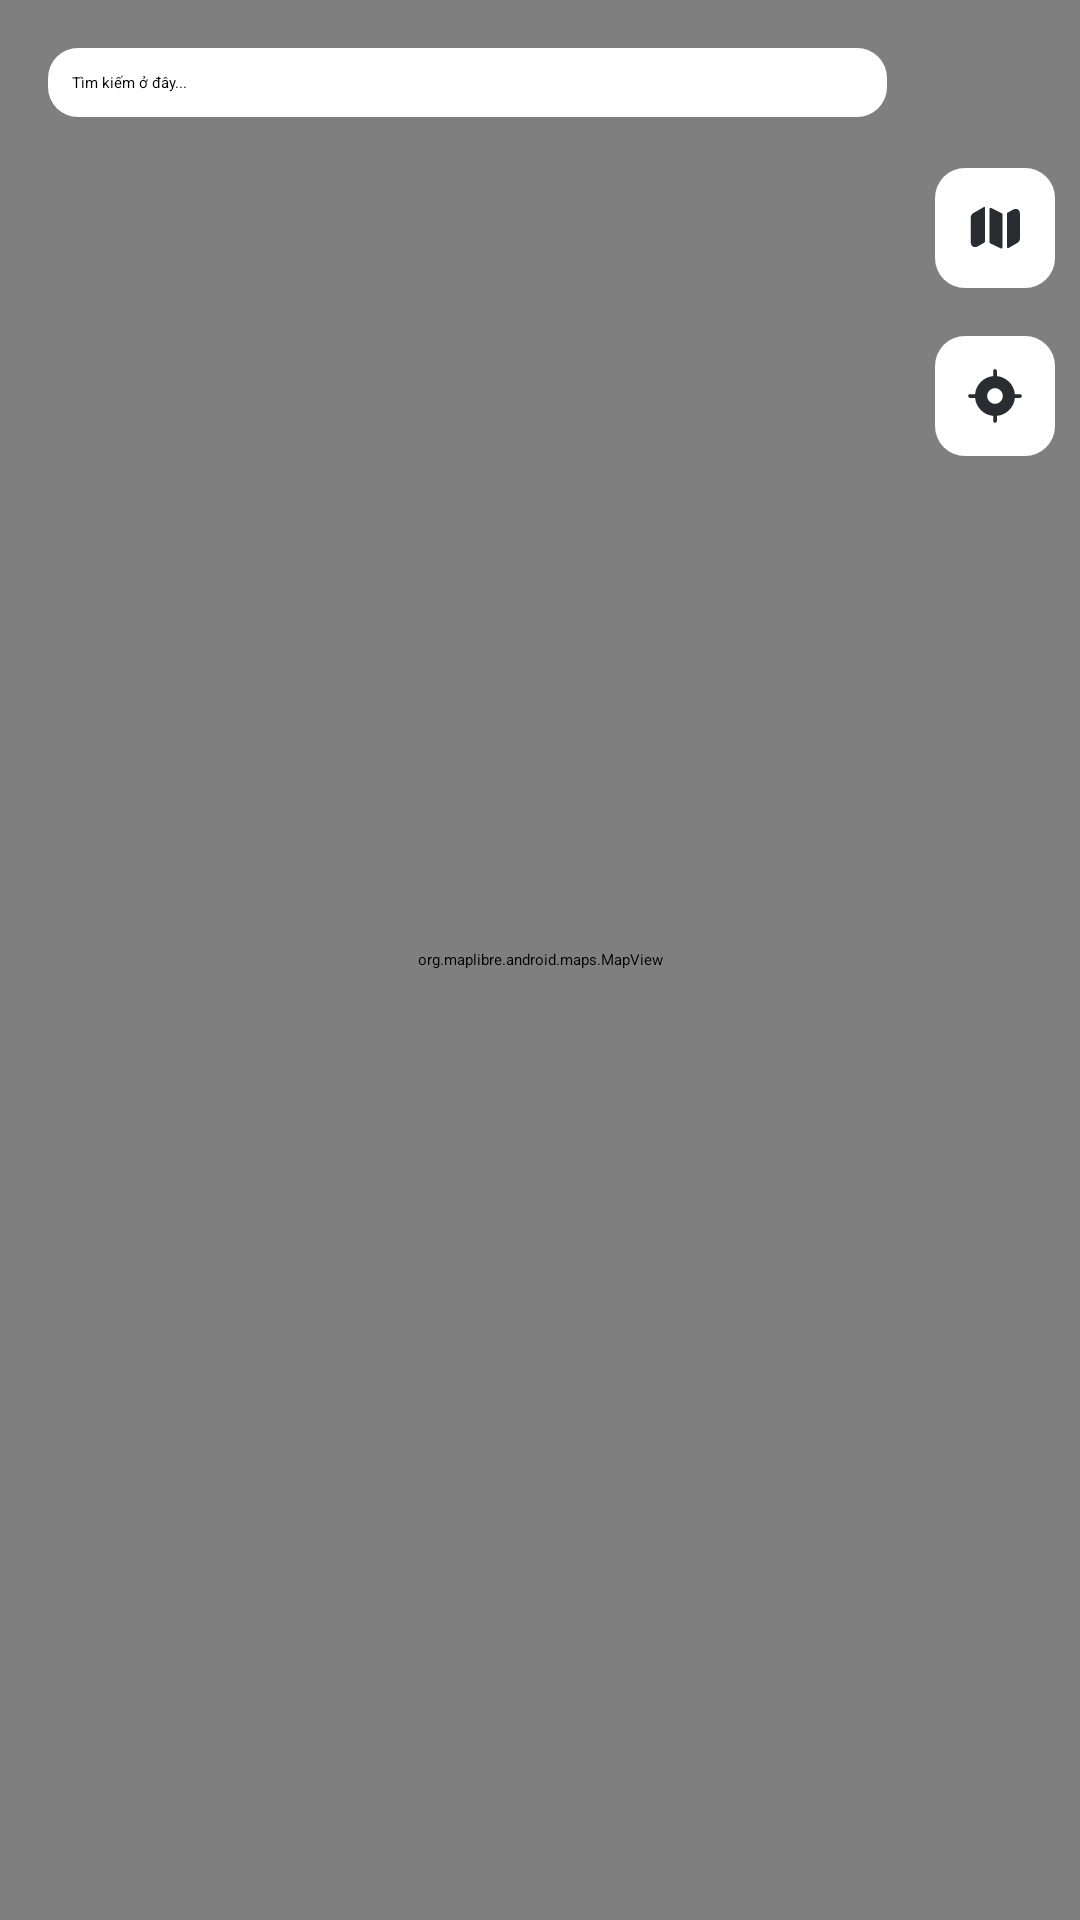

Named icons in this screenshot (1080px x 1920px) and their bounding boxes, (x1, y1, x2, y2):
location: (935, 336, 1055, 456)
